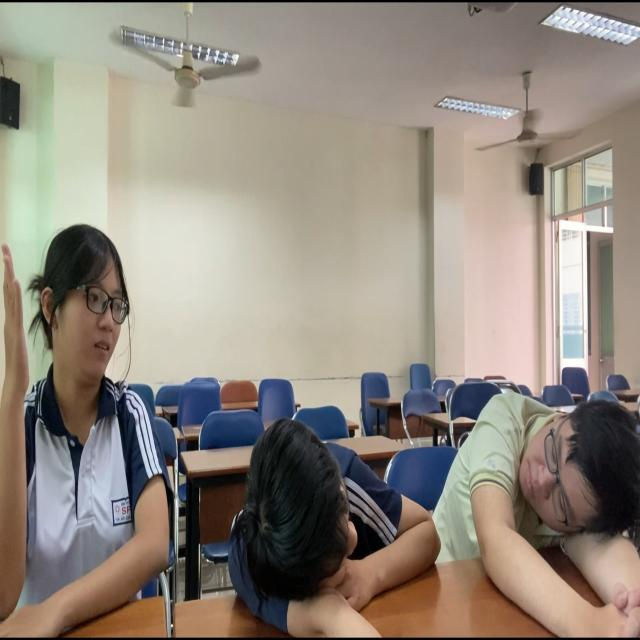raise_hand: (1, 203, 207, 640)
sleep: (209, 375, 469, 640), (416, 354, 640, 640)
